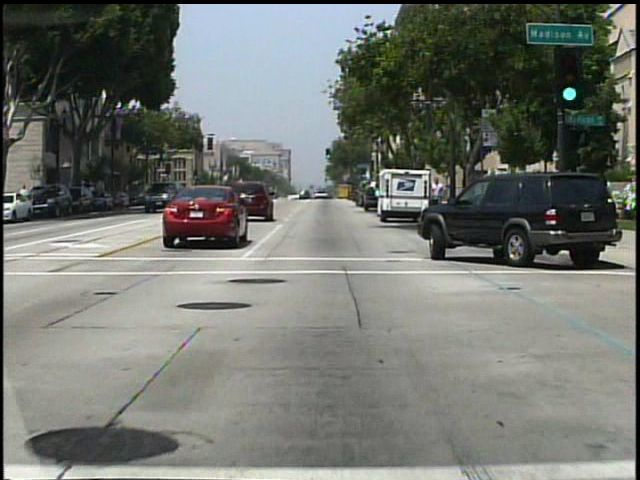person: (426, 176, 446, 221), (350, 183, 365, 210), (20, 182, 31, 210)
